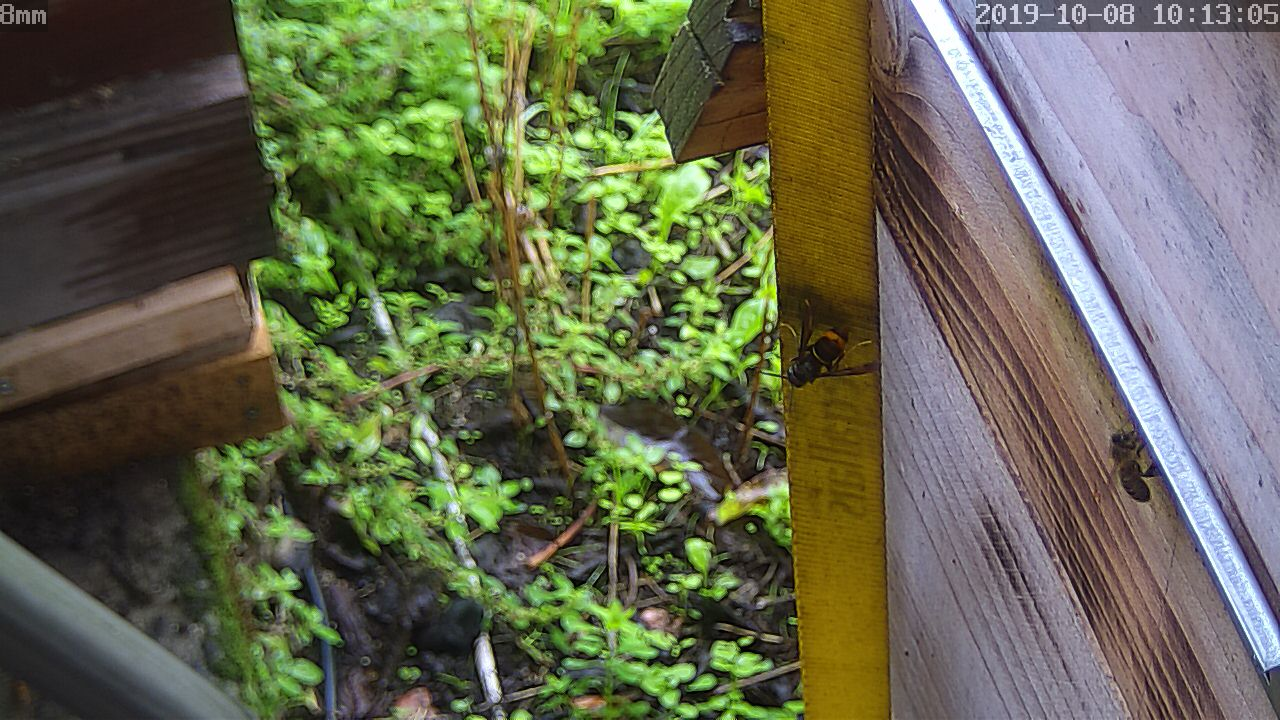bee: (1099, 420, 1161, 503)
hornet: (777, 319, 877, 391)
